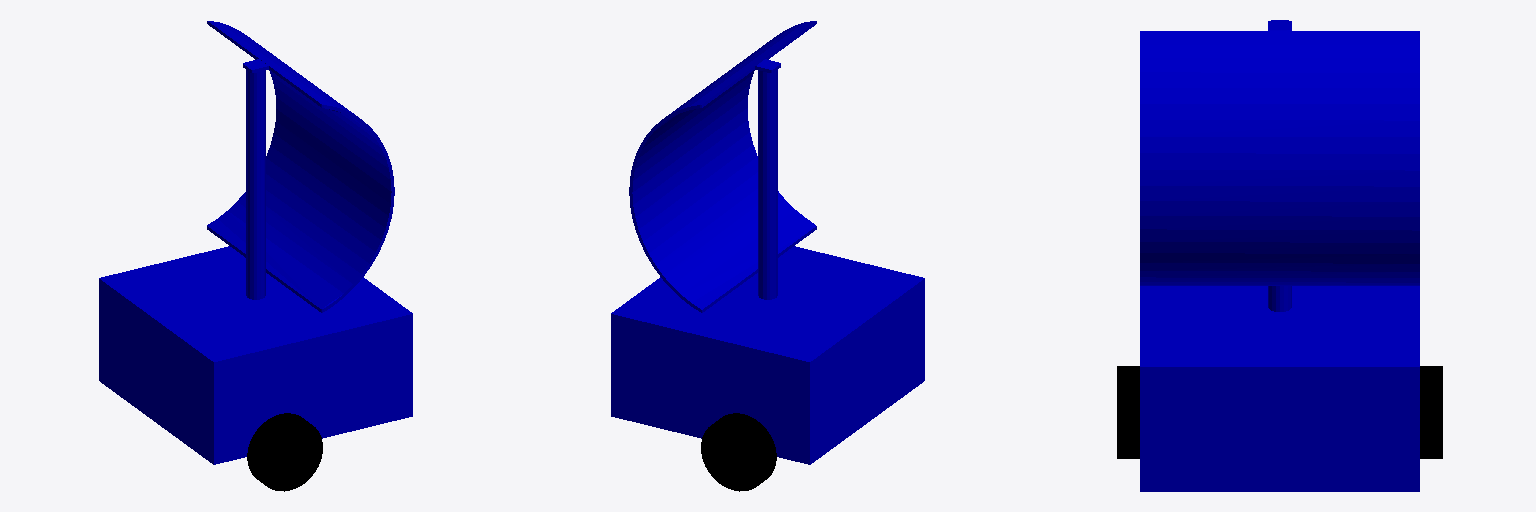
URDF robot description (my_robot):
<?xml version="1.0"?>
<robot name="my_robot">

  <material name="blue">
    <color rgba="0.0 0.0 0.8 1.0"/>
  </material>

  <material name="black">
    <color rgba="0.0 0.0 0.0 1.0"/>
  </material>

  <material name="gray">
    <color rgba="0.7 0.7 0.7 1.0"/>
  </material>

  <link name="base_link">
    <visual>
      <origin xyz="0 0 0.02" rpy="0 0 0"/>
      <geometry>
        <mesh filename="package://robot_build/meshes/body.stl"/>
      </geometry>
      <material name="blue"/>
    </visual>
    <collision>
      <origin xyz="0 0 0.125" rpy="0 0 0"/>
      <geometry>
        <cylinder length="0.25" radius="0.105"/>
      </geometry>
    </collision>
    <inertial>
      <mass value="50.0"/>
      <inertia ixx="10.0" ixy="0.0" ixz="0.0" iyy="10.0" iyz="0.0" izz="10.0"/>
    </inertial>
  </link>

  <link name="left_wheel">
    <visual>
      <geometry>
        <mesh filename="package://robot_build/meshes/wheel.stl"/>
      </geometry>
      <material name="black"/>
    </visual>
    <collision>
      <origin xyz="0.0 0.0 0.0" rpy="-1.57 0 0"/>
      <geometry>
        <cylinder length="0.01" radius="0.02"/>
      </geometry>
    </collision>
    <inertial>
      <mass value="5.0"/>
      <inertia ixx="0.1" ixy="0.0" ixz="0.0" iyy="0.1" iyz="0.0" izz="0.1"/>
    </inertial>
  </link>

  <link name="right_wheel">
    <visual>
      <geometry>
        <mesh filename="package://robot_build/meshes/wheel.stl"/>
      </geometry>
      <material name="black"/>
    </visual>
    <collision>
      <origin xyz="0.0 0.0 0.0" rpy="1.57 0 0"/>
      <geometry>
        <cylinder length="0.01" radius="0.02"/>
      </geometry>
    </collision>
    <inertial>
      <mass value="5.0"/>
      <inertia ixx="0.1" ixy="0.0" ixz="0.0" iyy="0.1" iyz="0.0" izz="0.1"/>
    </inertial>
  </link>

  <link name="front_caster">
    <visual>
      <geometry>
        <mesh filename="package://robot_build/meshes/ball.stl"/>
      </geometry>
      <material name="gray"/>
    </visual>
    <collision>
      <origin xyz="0.0 0.0 0.0" rpy="0 0 0"/>
      <geometry>
        <sphere radius="0.02"/>
      </geometry>
    </collision>
    <inertial>
      <mass value="2.0"/>
      <inertia ixx="0.01" ixy="0.0" ixz="0.0" iyy="0.01" iyz="0.0" izz="0.01"/>
    </inertial>
  </link>

  <joint name="left_wheel_joint" type="continuous">
    <parent link="base_link"/>
    <child link="left_wheel"/>
    <origin xyz="-0.02 0.06 0.02" rpy="0 0 0"/>
    <axis xyz="0 1 0"/>
    <dynamics damping="0.1" friction="0.0"/>
  </joint>

  <joint name="right_wheel_joint" type="continuous">
    <parent link="base_link"/>
    <child link="right_wheel"/>
    <origin xyz="-0.02 -0.06 0.02" rpy="3.141516 0 0"/>
    <axis xyz="0 1 0"/>
    <dynamics damping="0.1" friction="0.0"/>
  </joint>

  <joint name="front_caster_joint" type="fixed">
    <parent link="base_link"/>
    <child link="front_caster"/>
    <origin xyz="0.03 0.0 0.02" rpy="0 0 0"/>
  </joint>

</robot>

--- Facts derived from the render (not from the file) ---
3 views of the same robot in one strip: view 1: azimuth 30°, elevation 25°; view 2: azimuth 150°, elevation 25°; view 3: azimuth 270°, elevation 25° (orthographic).
Model my_robot with 4 links and 3 joints (2 continuous, 1 fixed), rooted at base_link, posed all joints at 0.
Links seen in each view (by area): view 1: base_link, right_wheel; view 2: base_link, left_wheel; view 3: base_link, left_wheel, right_wheel.
Link boxes in pixels (box(x1,y1,x2,y2)): base_link: box(99, 21, 412, 464); right_wheel: box(247, 413, 322, 491); base_link: box(611, 21, 924, 464); left_wheel: box(701, 413, 776, 491); base_link: box(1140, 20, 1419, 491); left_wheel: box(1420, 366, 1442, 458); right_wheel: box(1117, 366, 1139, 458).
Size in the robot's own frame: 0.12 by 0.14 by 0.212 metres.
3 mesh visuals loaded from 3 distinct referenced files (2 binary STL); not drawn: 1 (reference not matched to a file when rendering).